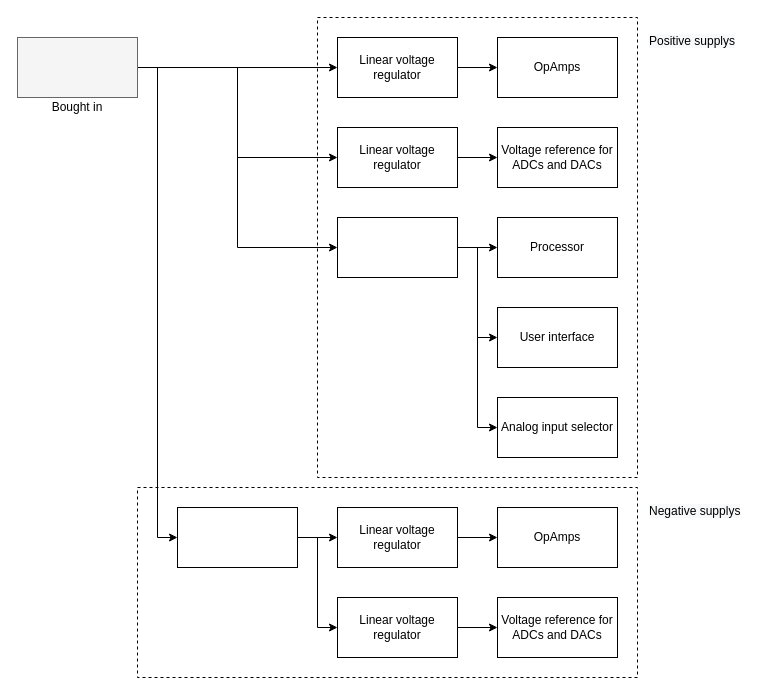
Some shapes in this 775 by 695 pixel diagram are drawn without their labels. The shapes that lost their labels are listed below. From the top down, each one's centre as x and y in pixels, then its label:
At pixel 77 67: "Mains power supply".
At pixel 397 247: "Buck converter".
At pixel 237 537: "Buck boost converter".
